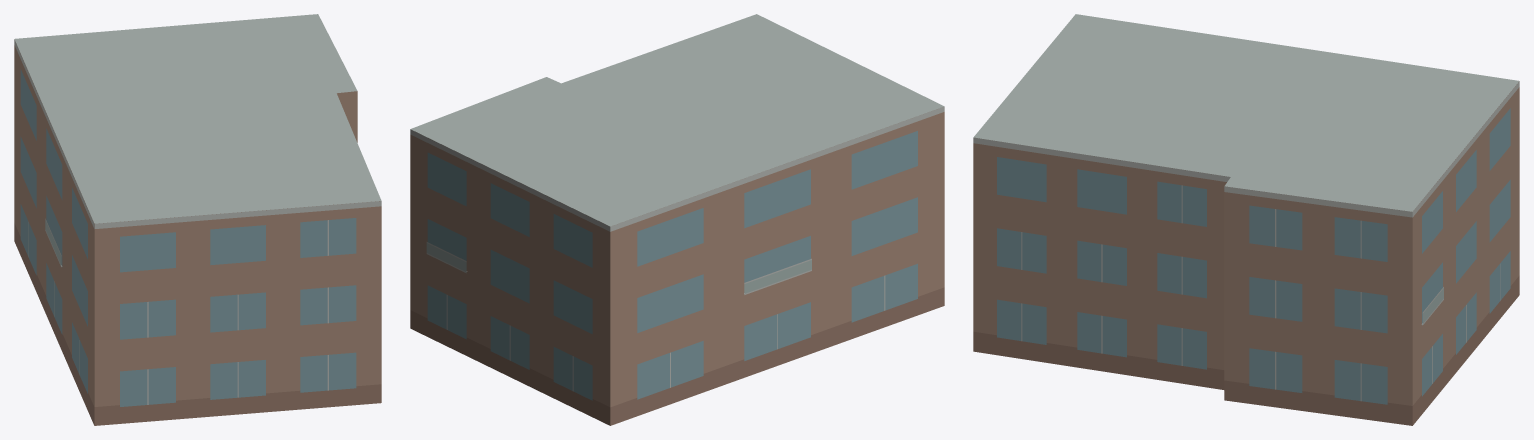
The model's file is survey-upis-32605623.glb.
3 views of the same model, side by side, from view 1: azimuth 30°, elevation 25°; view 2: azimuth 150°, elevation 25°; view 3: azimuth 270°, elevation 25° (orthographic). The views are drawn at different scales.
Parts seen in each view (by area): view 1: survey-upis-32605623.tmp; view 2: survey-upis-32605623.tmp; view 3: survey-upis-32605623.tmp.
Boxes of the visible parts, x1,y1,x2,y2 form: survey-upis-32605623.tmp: [14, 14, 381, 425]; survey-upis-32605623.tmp: [410, 14, 944, 425]; survey-upis-32605623.tmp: [973, 14, 1519, 425].
Bounding box in the file's own units: 18.14 × 9.15 × 21.18.
